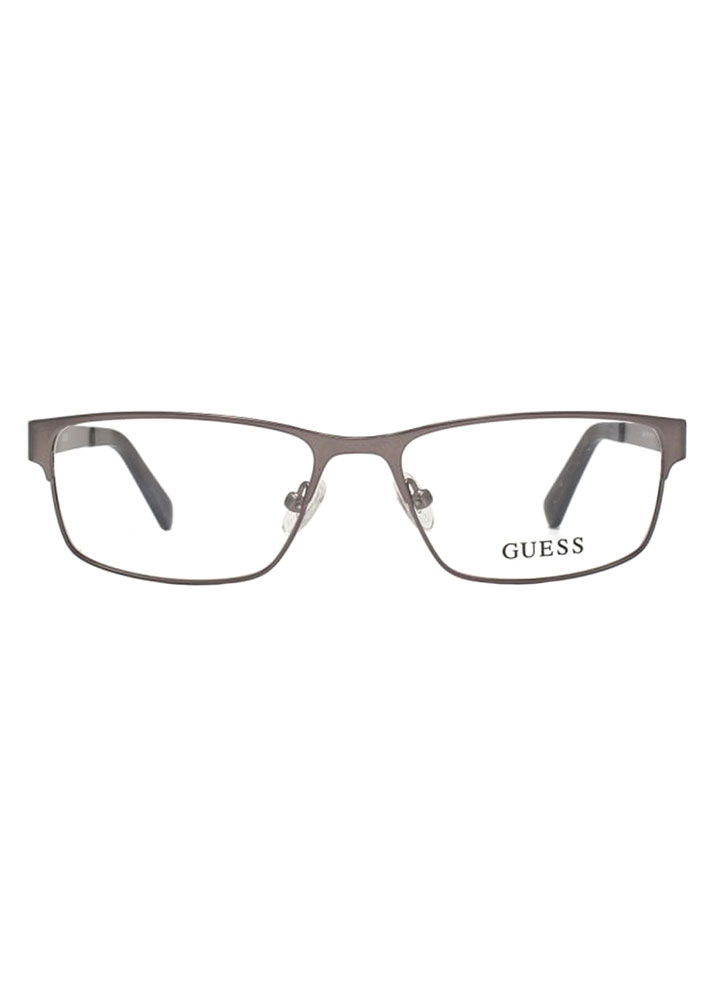Guess: (497, 534, 593, 565)
